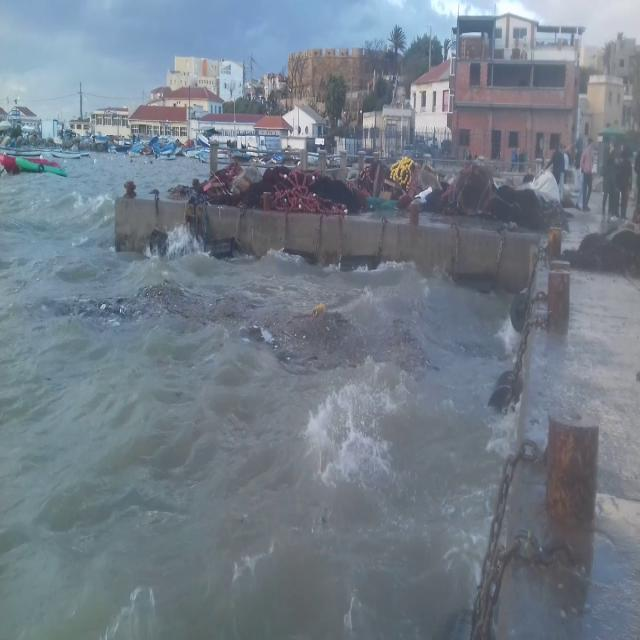Undefined trash: (32, 267, 494, 402)
